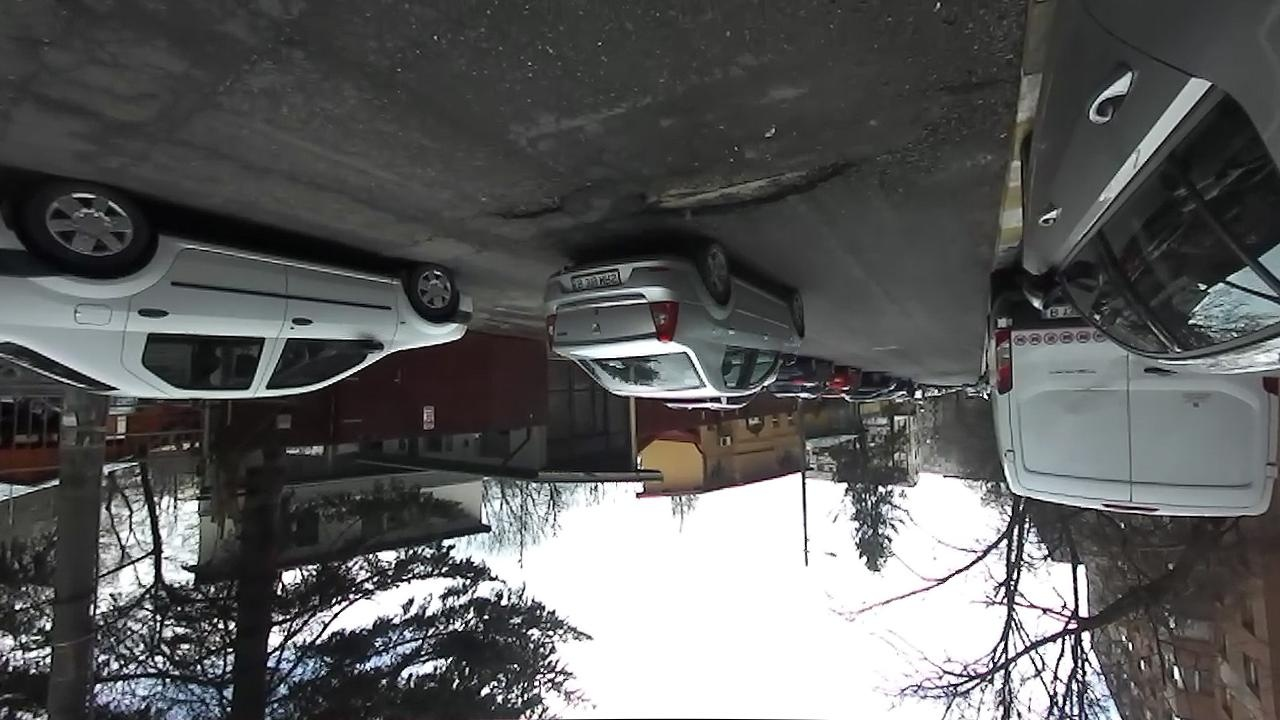pothole: (638, 154, 872, 224), (491, 184, 573, 225)
